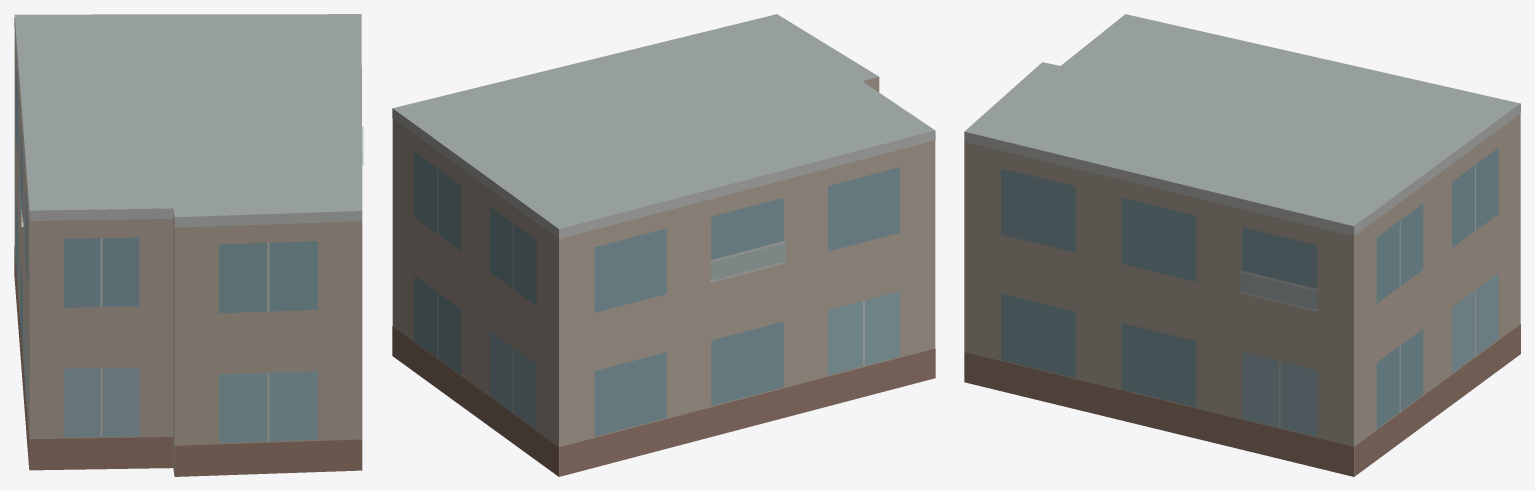
File: survey-upis-32787819.glb
3 renders of one model, left to right at view 1: azimuth 30°, elevation 25°; view 2: azimuth 150°, elevation 25°; view 3: azimuth 270°, elevation 25°, orthographic. The views are drawn at different scales.
Visible parts, largest first — view 1: survey-upis-32787819.tmp; view 2: survey-upis-32787819.tmp; view 3: survey-upis-32787819.tmp.
Part boxes in pixels (box(x1,y1,x2,y2)): survey-upis-32787819.tmp: box(14, 14, 363, 476); survey-upis-32787819.tmp: box(392, 14, 935, 476); survey-upis-32787819.tmp: box(964, 14, 1520, 476).
Size of the model in its own units: 11.09 by 6.1 by 12.29.
